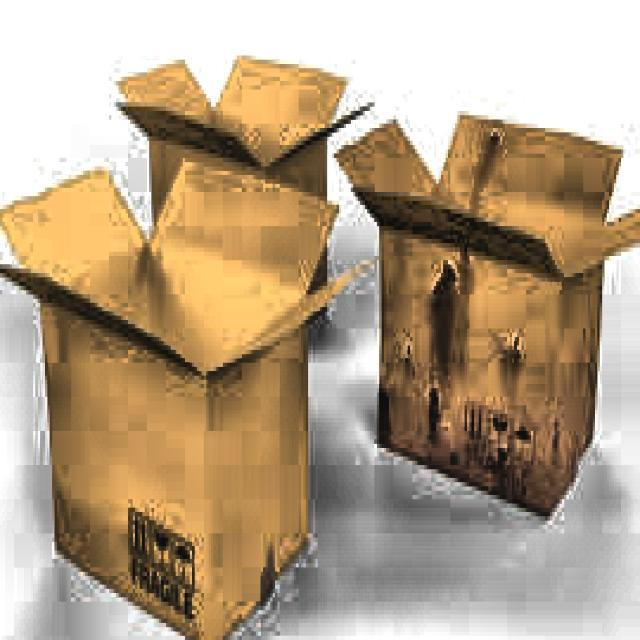cardboard: (0, 51, 372, 640), (334, 107, 640, 520)
